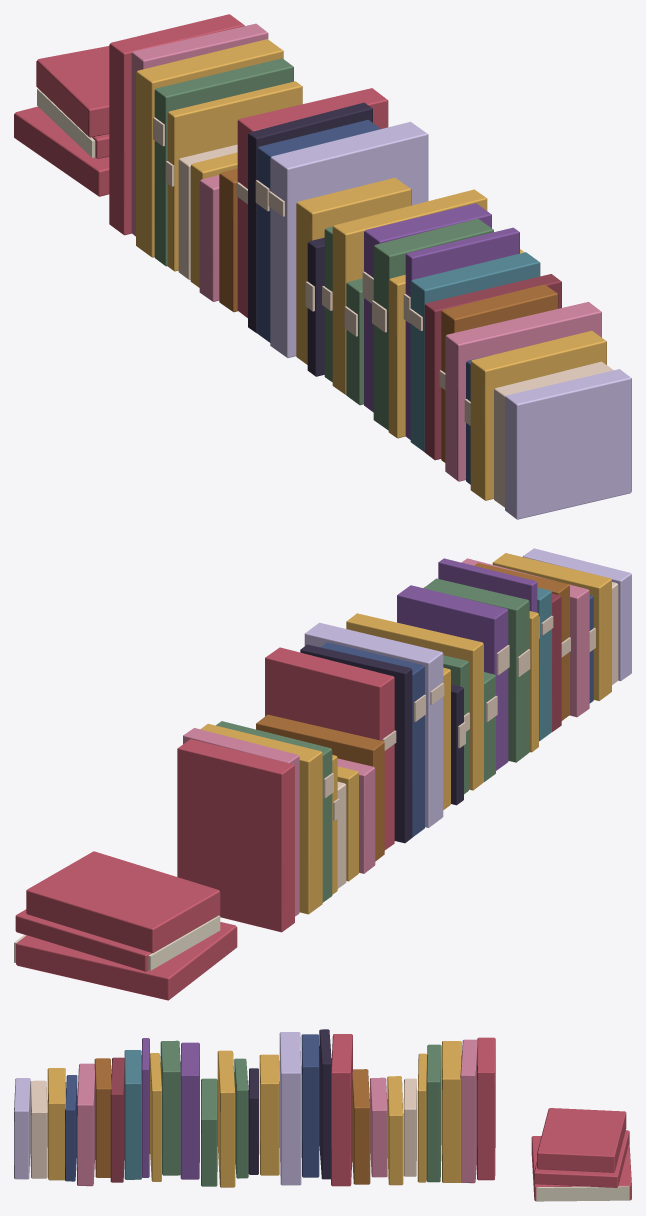
The model's file is books_shelf_2.fbx.
3 renders of one model, top to bottom at view 1: azimuth 30°, elevation 25°; view 2: azimuth 150°, elevation 25°; view 3: azimuth 270°, elevation 25°, orthographic. The views are drawn at different scales.
Visible parts, largest first — view 1: books_shelf_2; view 2: books_shelf_2; view 3: books_shelf_2.
Boxes of the visible parts, x1,y1,x2,y2 form: books_shelf_2: [14, 14, 631, 519]; books_shelf_2: [14, 548, 631, 1000]; books_shelf_2: [14, 1029, 631, 1201].
Size of the model in its own units: 0.3311 by 0.2967 by 1.43.
